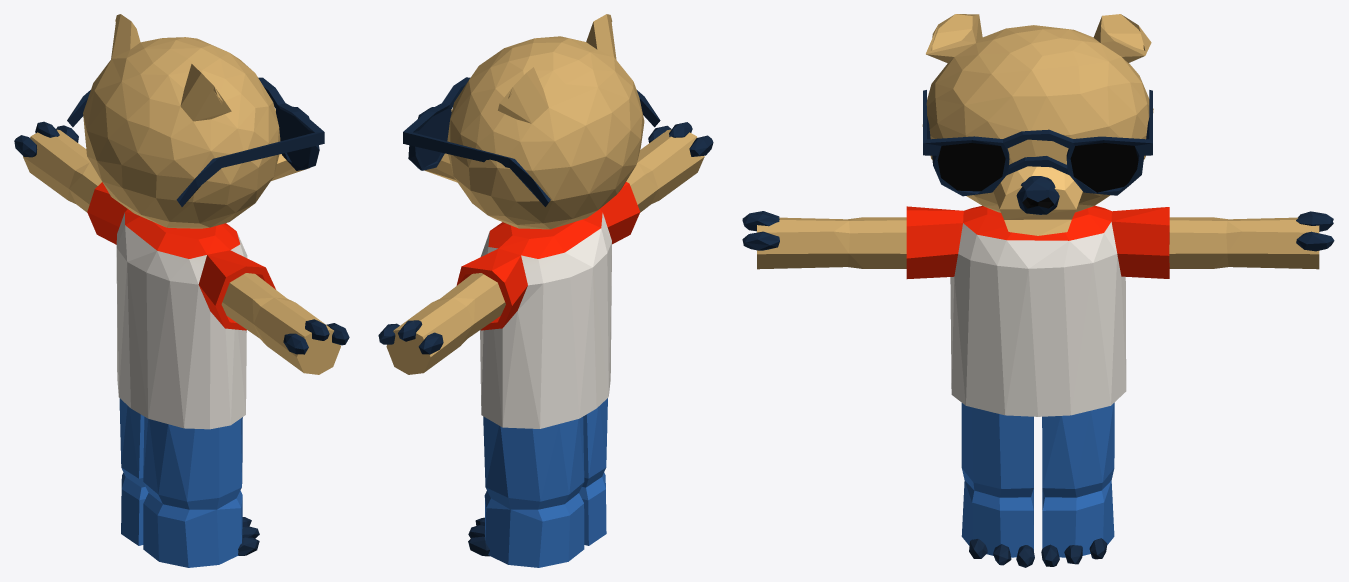
The model's file is boybear.fbx.
The picture shows the model from 3 angles, left to right: view 1: azimuth 30°, elevation 25°; view 2: azimuth 150°, elevation 25°; view 3: azimuth 270°, elevation 25°; orthographic projection. The views are drawn at different scales.
Visible parts, largest first — view 1: Boybear; view 2: Boybear; view 3: Boybear.
Boxes of the visible parts, bbox=[...] form: Boybear: bbox=[14, 14, 349, 567]; Boybear: bbox=[378, 14, 713, 567]; Boybear: bbox=[742, 14, 1334, 567].
Size of the model in its own units: 329 by 770 by 798.
